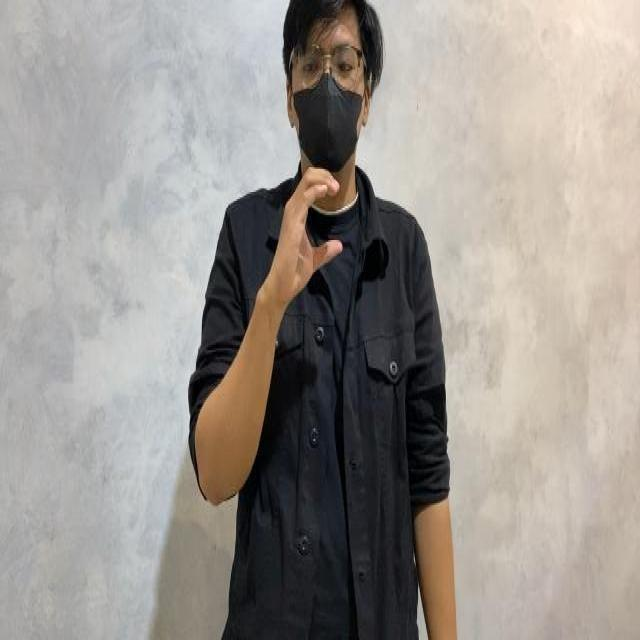C: (274, 160, 354, 278)
